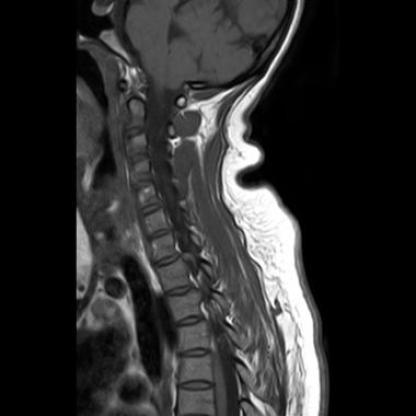Degenerative Disc Diseaserotation: (144, 224, 175, 239)
